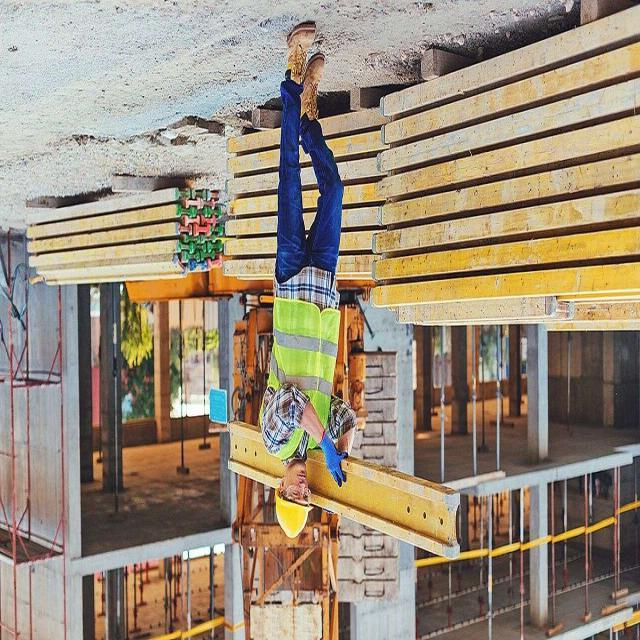safetyhelmet: (266, 459, 321, 542)
